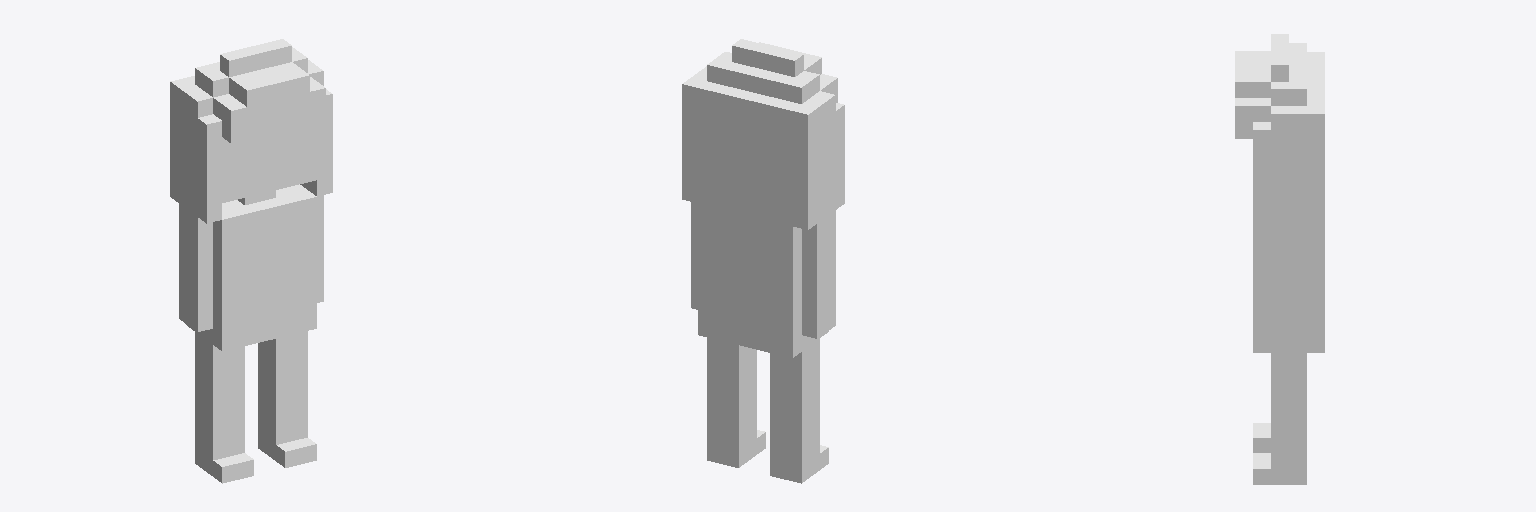
The model's file is ada.obj.
3 views of the same model, side by side, from view 1: azimuth 30°, elevation 25°; view 2: azimuth 150°, elevation 25°; view 3: azimuth 270°, elevation 25° (orthographic).
Bounding box in the file's own units: 8 × 25 × 5.